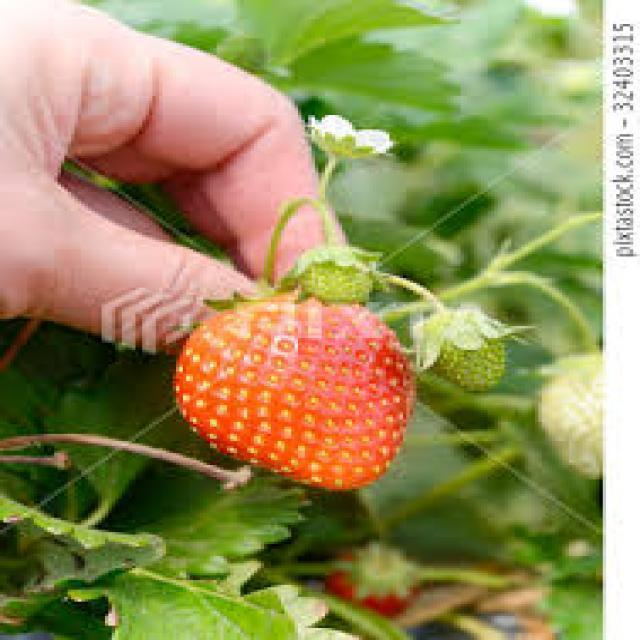ripe: (171, 296, 413, 493)
unripe: (541, 349, 605, 481), (427, 308, 508, 392), (299, 246, 376, 305)
